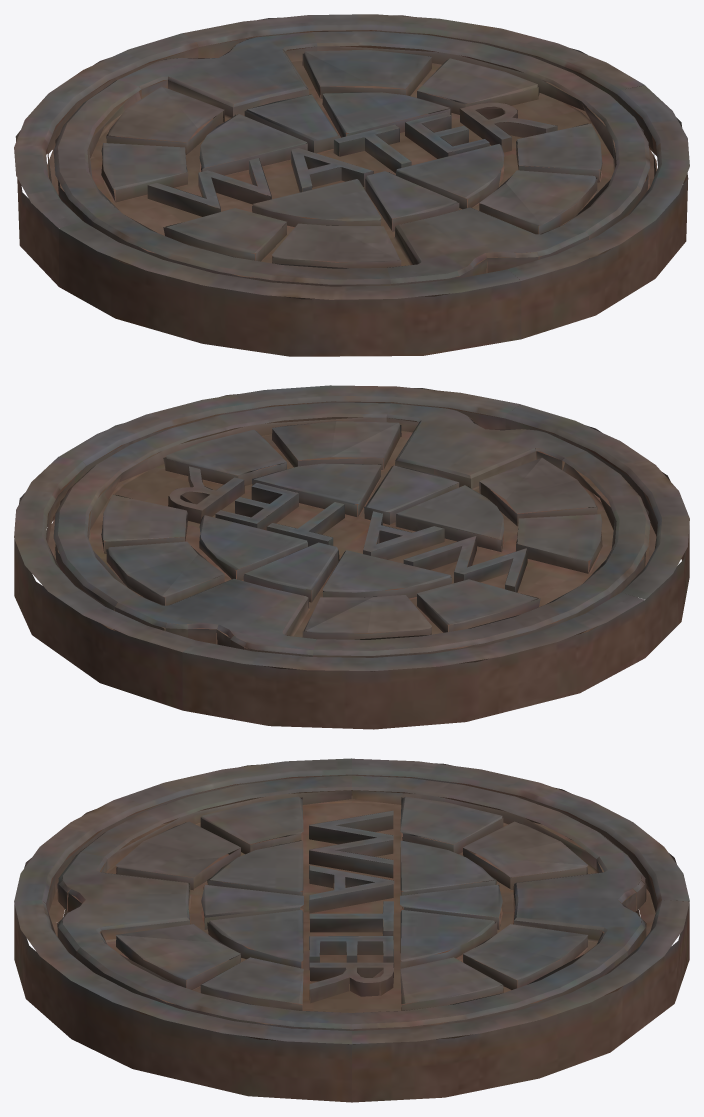
File: manhole.glb
3 renders of one model, top to bottom at view 1: azimuth 30°, elevation 25°; view 2: azimuth 150°, elevation 25°; view 3: azimuth 270°, elevation 25°, orthographic.
Visible parts, largest first — view 1: water_manhole_cover; view 2: water_manhole_cover; view 3: water_manhole_cover.
Part boxes in pixels (<box>): water_manhole_cover: <box>14,14,689,356</box>; water_manhole_cover: <box>14,385,689,729</box>; water_manhole_cover: <box>14,758,689,1102</box>.
Bounding box in the file's own units: 0.6916 × 0.0681 × 0.6915.
1 material, 1 textured.
